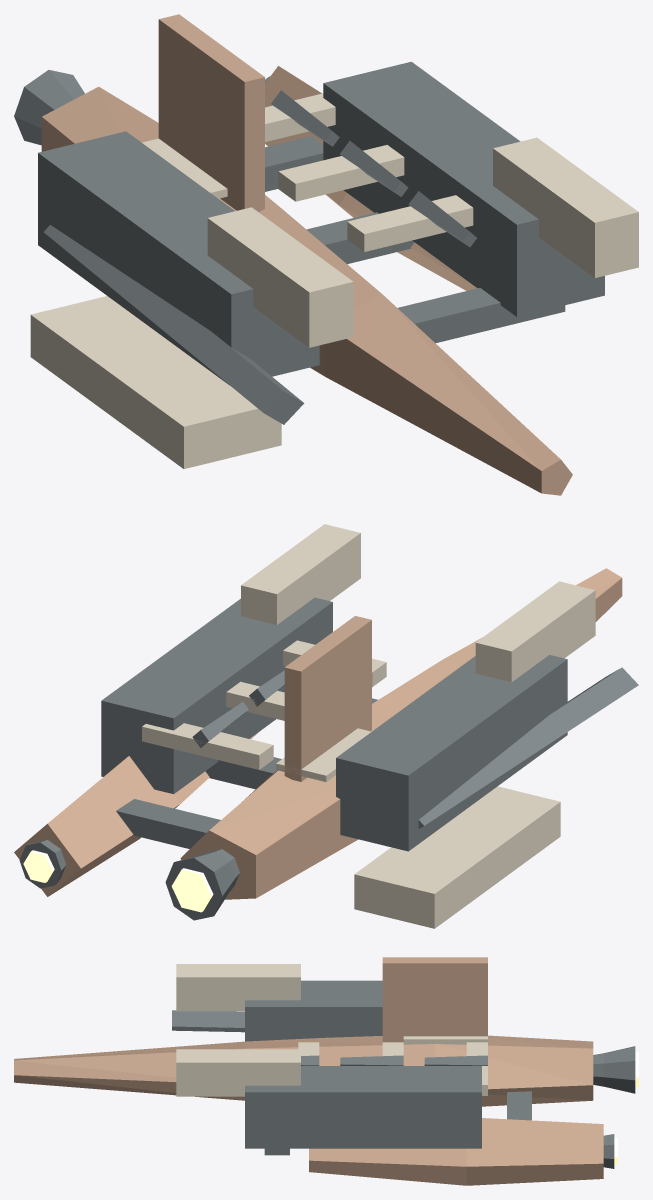
The picture shows the model from 3 angles, top to bottom: view 1: azimuth 30°, elevation 25°; view 2: azimuth 150°, elevation 25°; view 3: azimuth 270°, elevation 25°; orthographic projection. The views are drawn at different scales.
Size of the model in its own units: 9.48 by 6.28 by 20.03.
